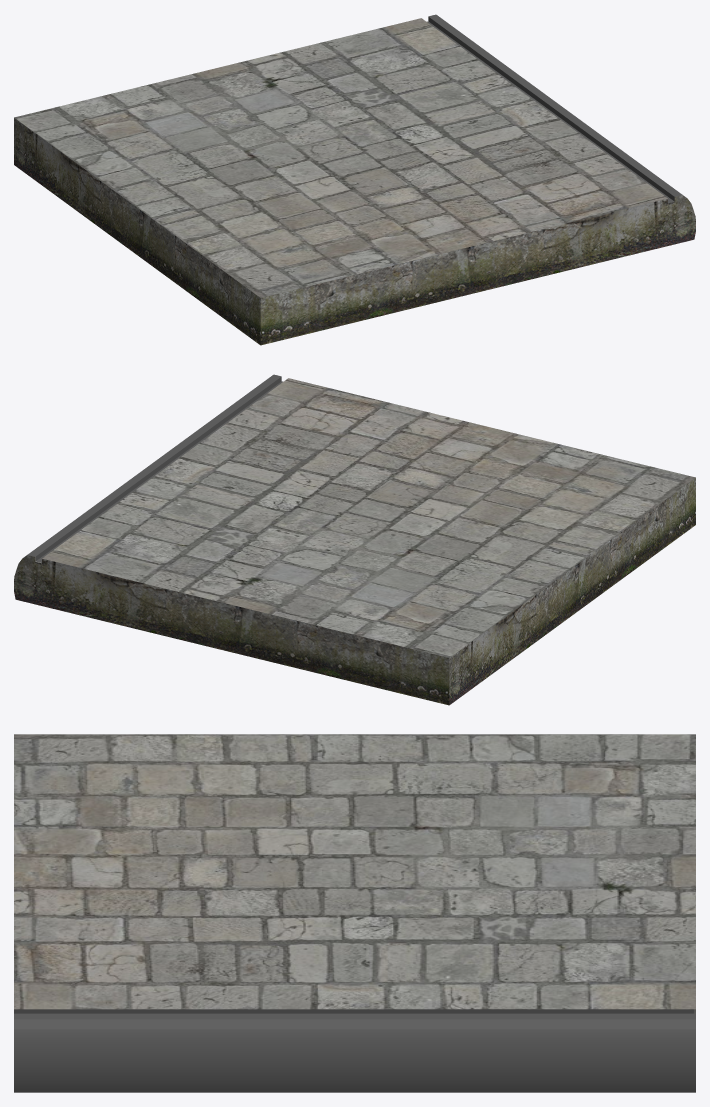
Rendered from PavementPieces03.fbx.
3 views of the same model, one above another, from view 1: azimuth 30°, elevation 25°; view 2: azimuth 150°, elevation 25°; view 3: azimuth 270°, elevation 25° (orthographic). The views are drawn at different scales.
Visible parts, largest first — view 1: PavementPieces03; view 2: PavementPieces03; view 3: PavementPieces03.
Boxes of the visible parts, <box> form: PavementPieces03: <box>14,14,695,345</box>; PavementPieces03: <box>14,374,695,705</box>; PavementPieces03: <box>14,734,695,1092</box>.
Size of the model in its own units: 130 by 13.59 by 128.
